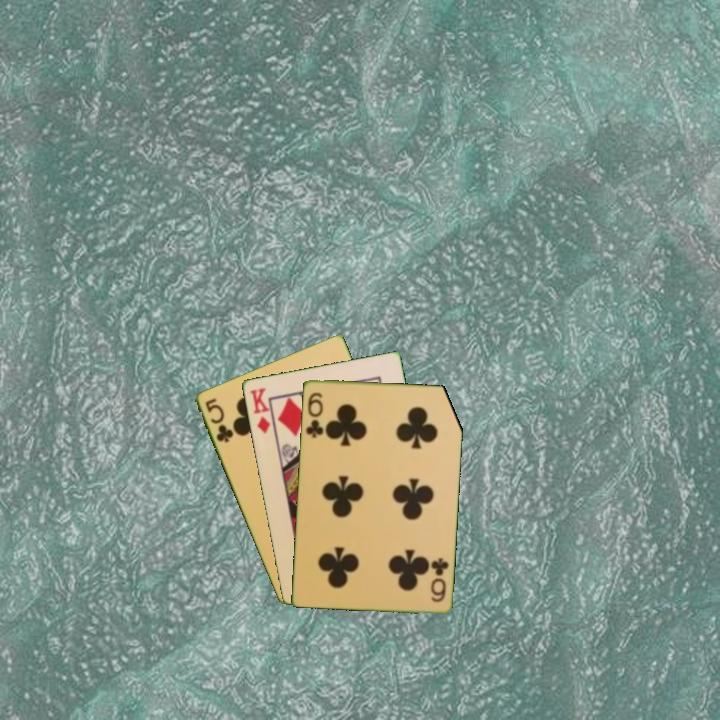5c: (201, 394, 236, 446)
6c: (302, 388, 326, 440), (427, 554, 451, 605)
Kd: (246, 384, 273, 436)
